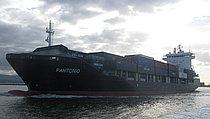Ship: (2, 43, 206, 100)
